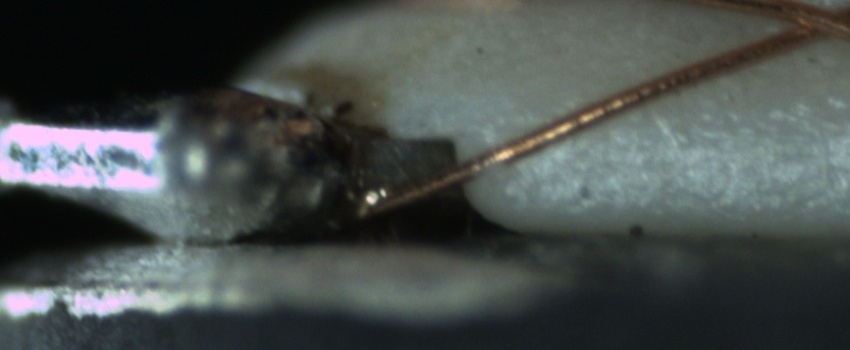CL: (768, 1, 846, 46)
DL: (531, 98, 845, 161)
